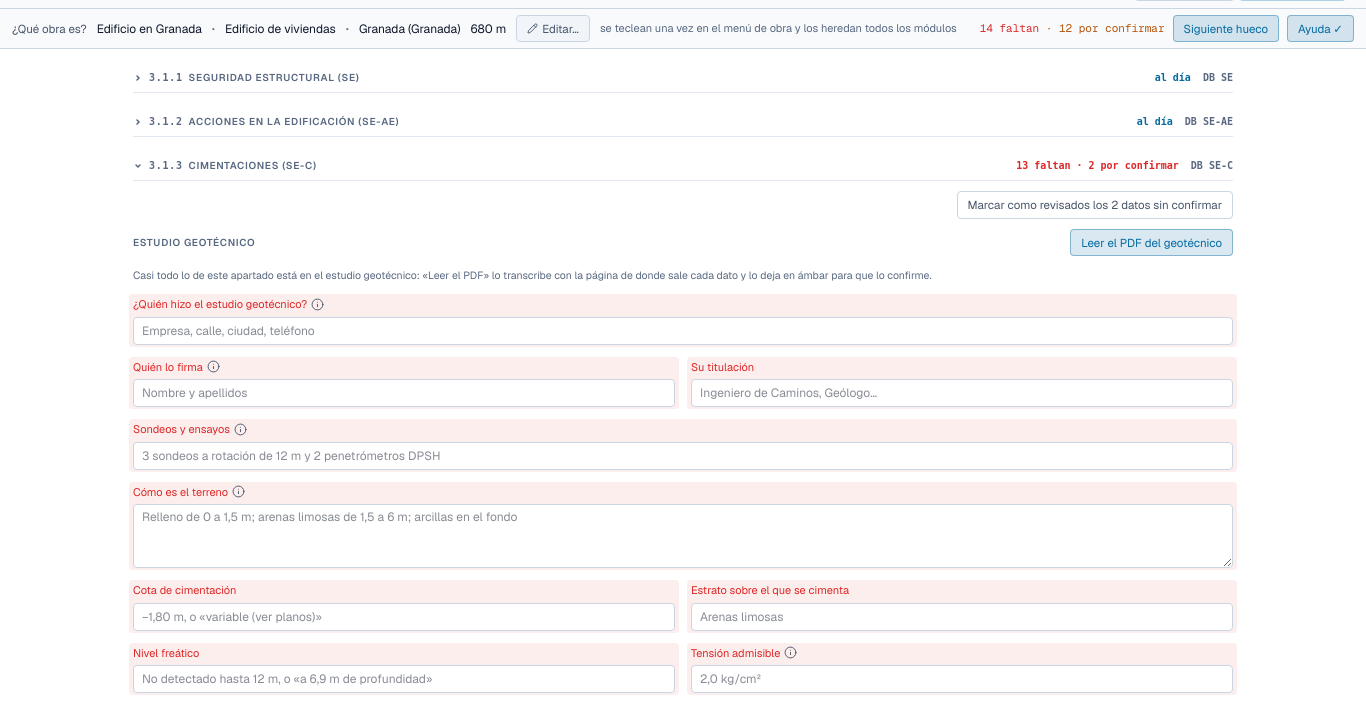
Test: Cumplimiento del DB SE — el módulo › lo publicado se usa sin pedir permiso, y no queda tabla de publicaciones que leer
Step 1. Click the button "3.1.2 Acciones en la edificación (SE-AE) al día DB SE-AE" → (166,122), box [133, 105, 1233, 137]
(page scrolled)
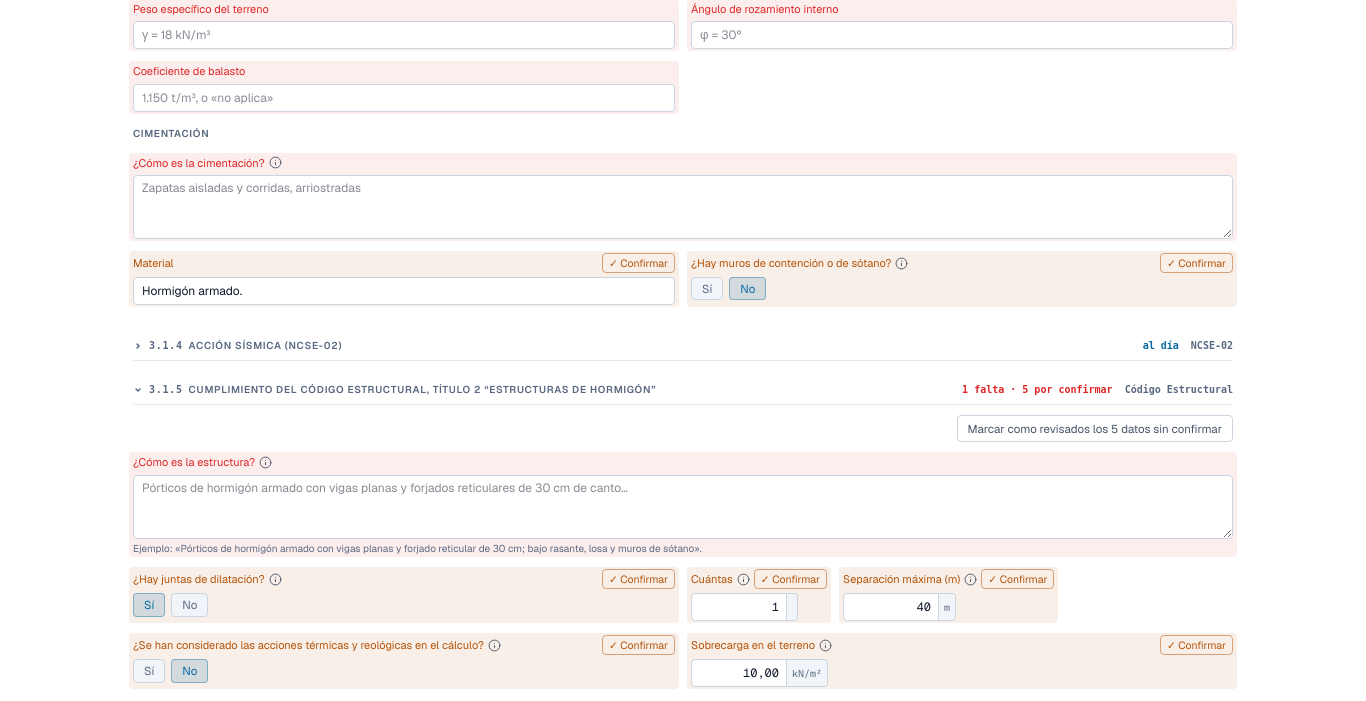
Step 2. Click the button "3.1.4 Acción sísmica (NCSE-02) al día NCSE-02" → (166,346), box [133, 329, 1233, 361]
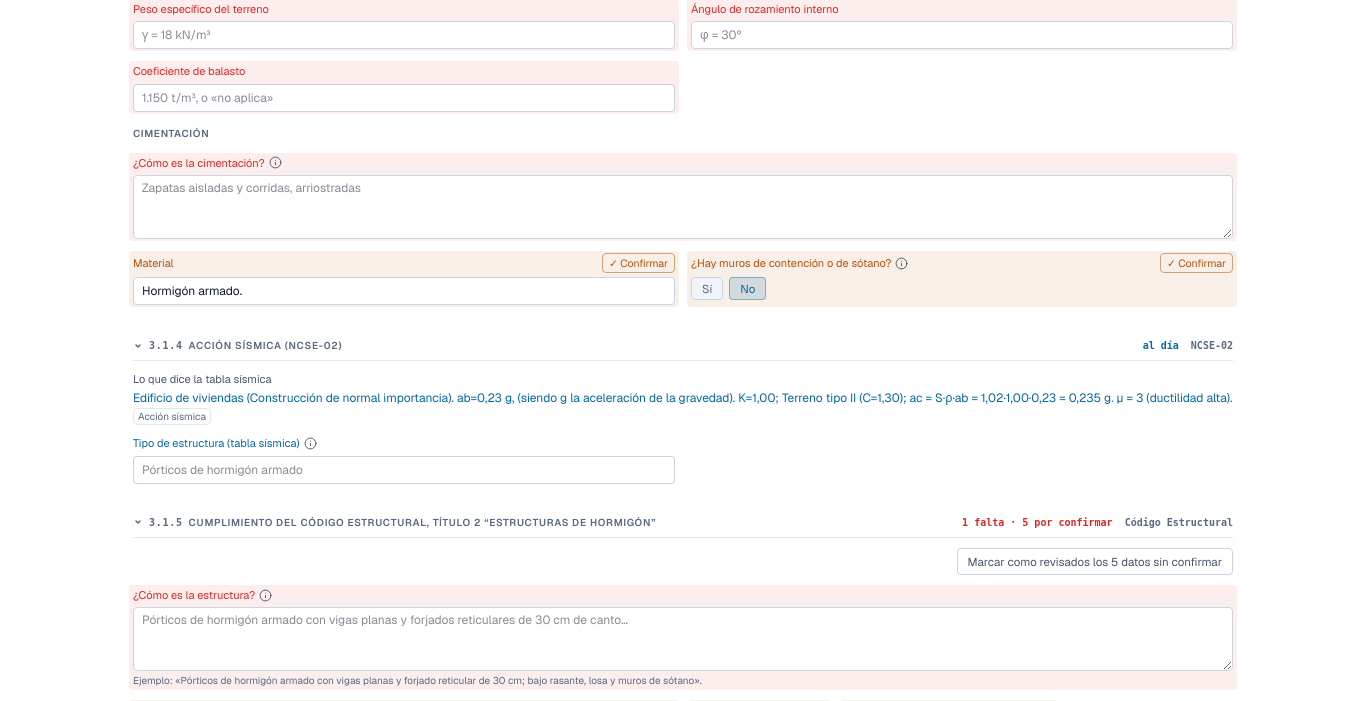
Result: the text "ab=0,23 g" is shown at [133, 390, 1232, 406]
